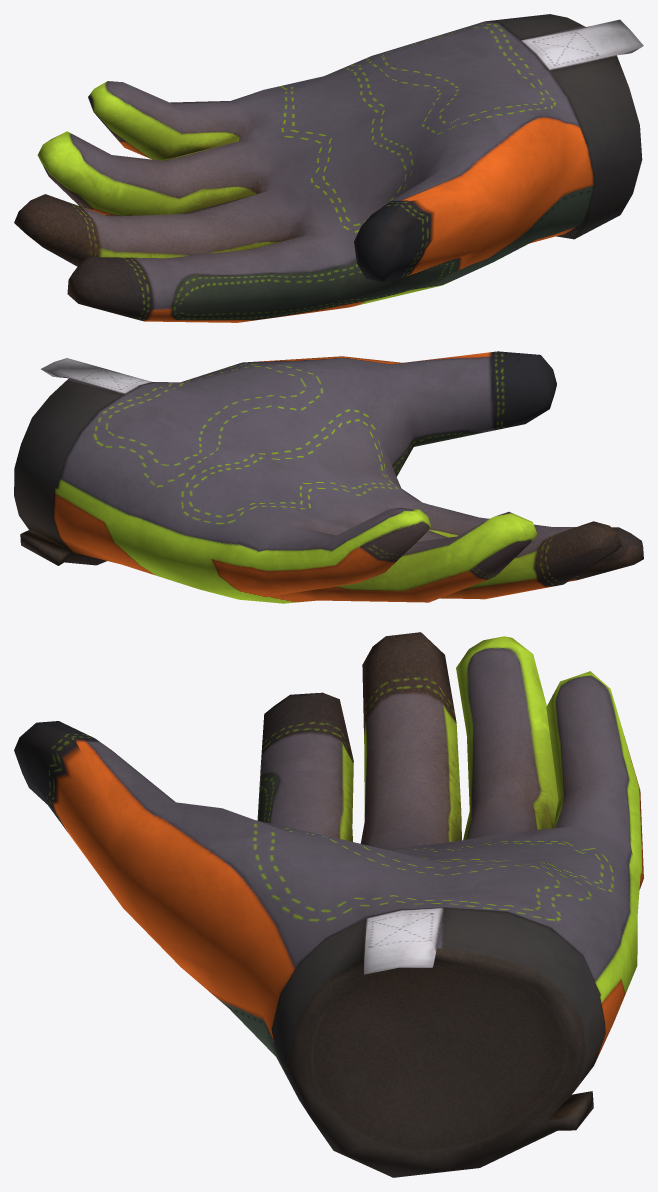
The model's file is SM_Safety_Gloves_02.fbx.
The picture shows the model from 3 angles, top to bottom: view 1: azimuth 30°, elevation 25°; view 2: azimuth 150°, elevation 25°; view 3: azimuth 270°, elevation 25°; orthographic projection. The views are drawn at different scales.
Visible parts, largest first — view 1: SM_Safety_Gloves.001; view 2: SM_Safety_Gloves.001; view 3: SM_Safety_Gloves.001.
Boxes of the visible parts, left/top/right/bottom form: SM_Safety_Gloves.001: left=14, top=14, right=643, bottom=322; SM_Safety_Gloves.001: left=14, top=351, right=643, bottom=603; SM_Safety_Gloves.001: left=14, top=632, right=643, bottom=1177.
Size of the model in its own units: 0.2096 by 0.1434 by 0.0623.
